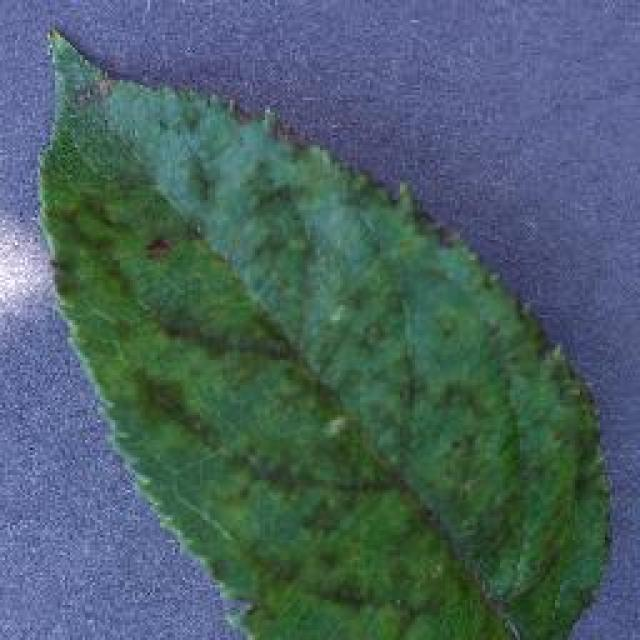apple scab disease: (33, 25, 615, 637)
